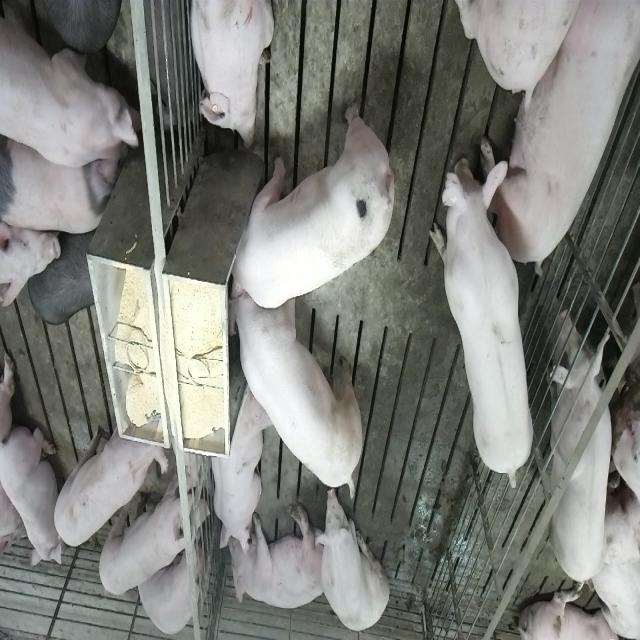Feeding: (221, 100, 391, 308), (230, 278, 366, 500)
Lateral_lying: (227, 504, 325, 612)
Sitting: (314, 487, 389, 632)
Standing: (432, 140, 538, 490), (538, 301, 636, 587), (2, 0, 142, 184), (51, 406, 168, 549), (98, 472, 208, 598), (3, 133, 119, 240), (27, 222, 100, 326), (26, 0, 120, 54)
Sternal_lying: (187, 0, 275, 150), (208, 382, 268, 554), (2, 418, 60, 568)
